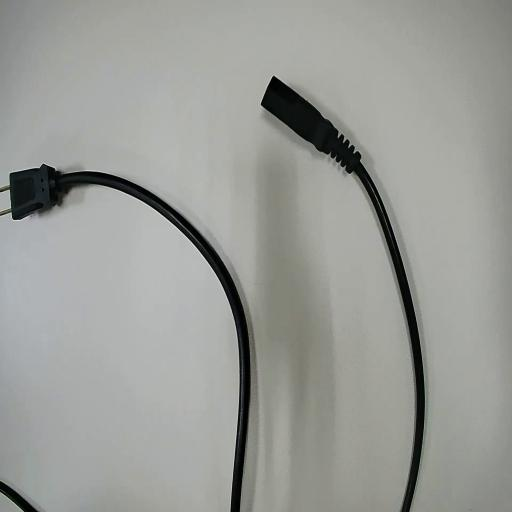wire: (10, 166, 250, 511), (262, 78, 424, 511)
